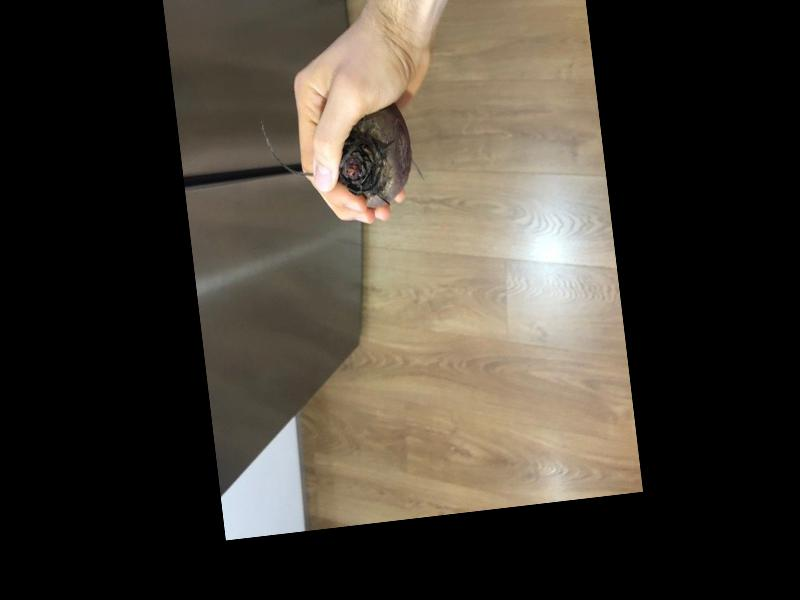Beet: (259, 101, 417, 220)
